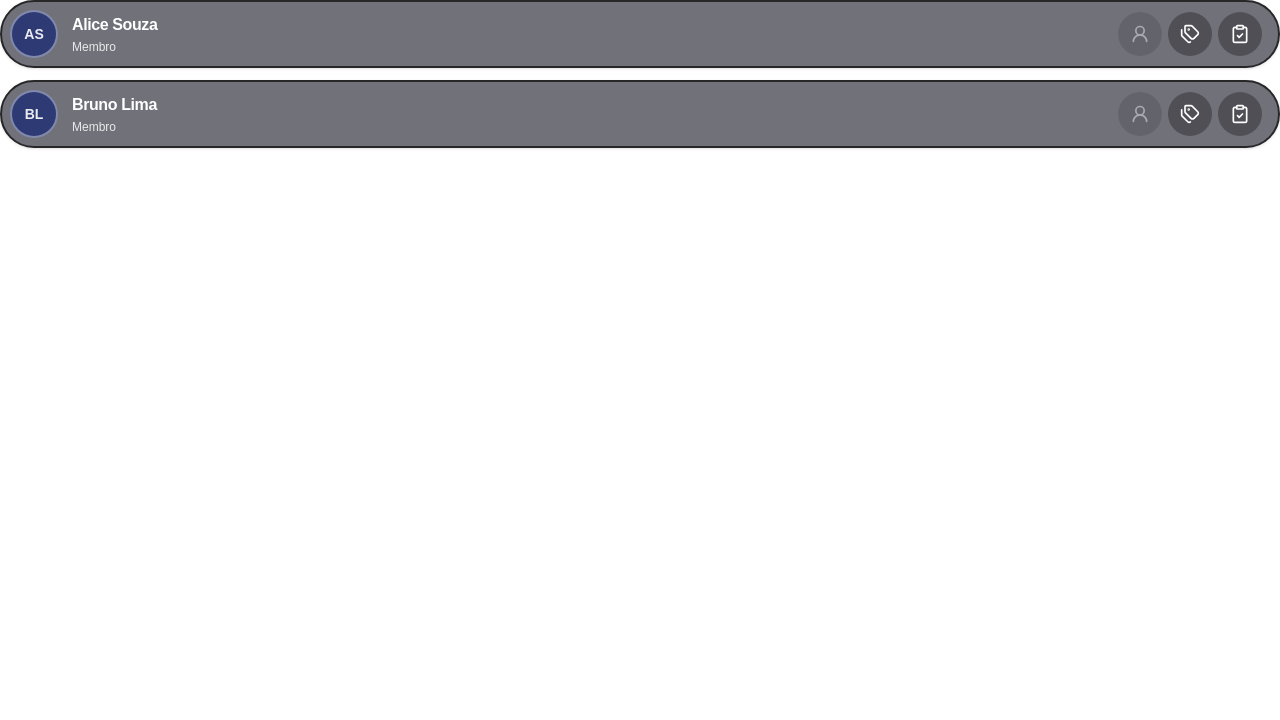
Test: [US09] Integração do AttendancePanel › Deve marcar o status na hora e deixar outro aluno ser alterado enquanto o servidor ainda não respondeu
Click the button named "Presença de Alice Souza: não registrada": [1240, 34] box [1218,12,1262,56]
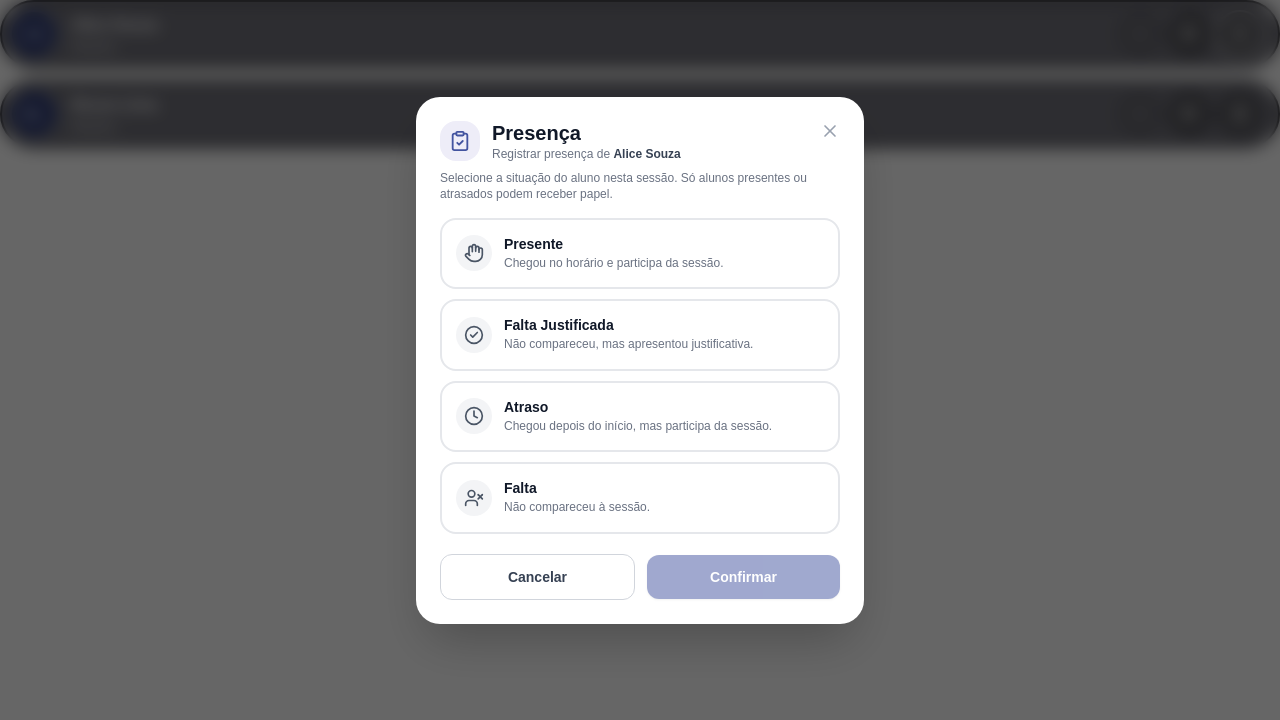
Click the button "Falta Não compareceu à sessão.": [640, 498] box [440,462,840,534]
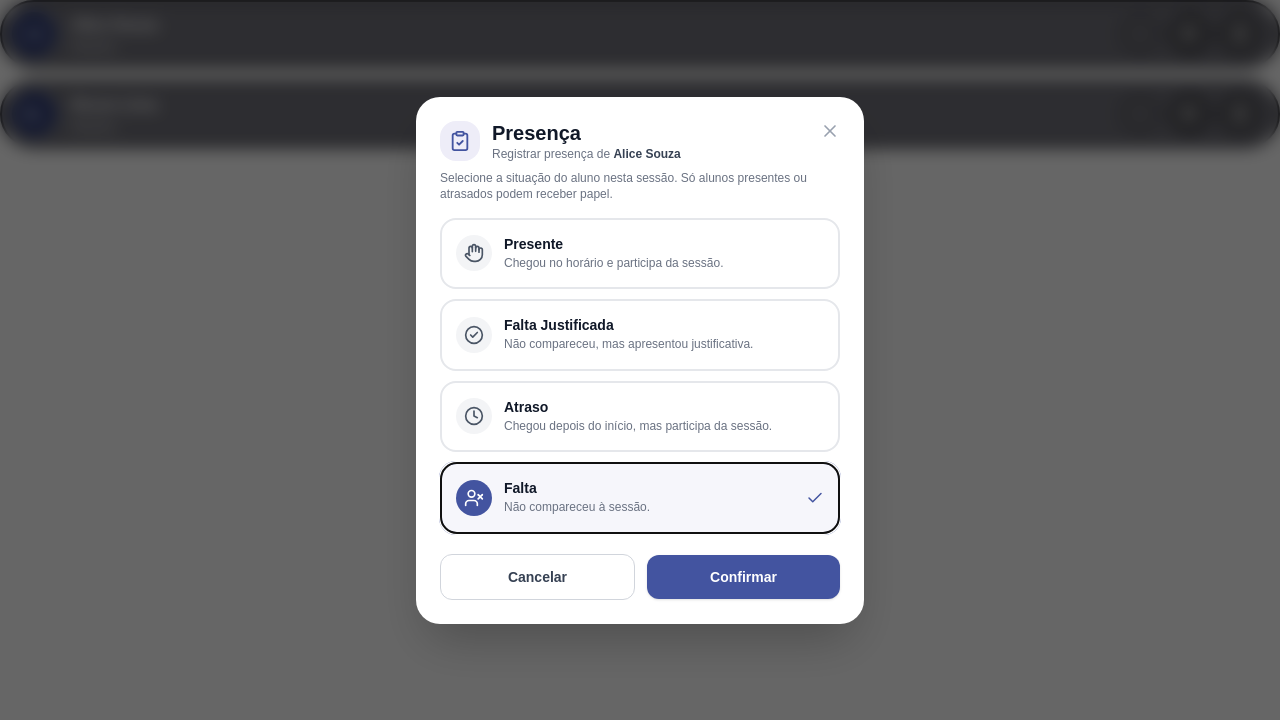
Click the button "Confirmar": [744, 576] box [647,554,840,598]
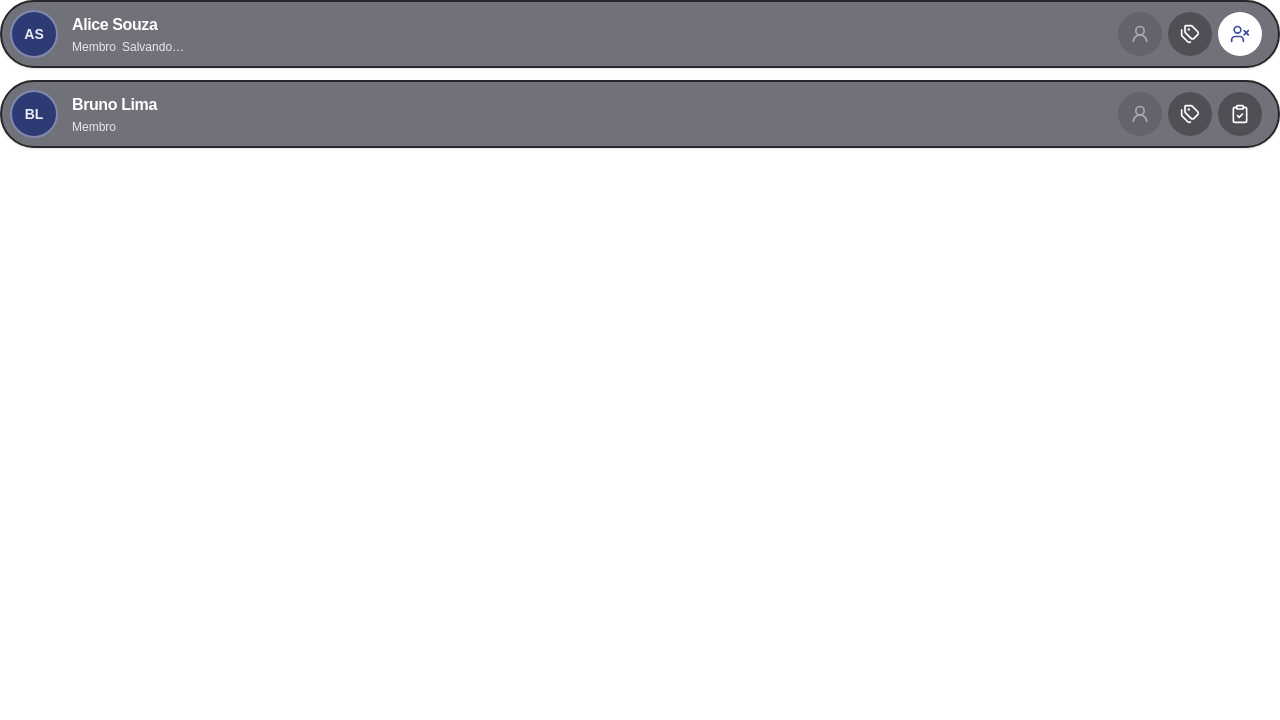
Expected: the button named "Tags de Alice Souza" is enabled, [1168,12,1212,56]
Expected: the list item "AS Alice Souza Membro Salvando…" has attribute aria-busy="true", [0,0,1279,68]
Click the button named "Presença de Bruno Lima: não registrada": [1240, 114] box [1218,92,1262,136]
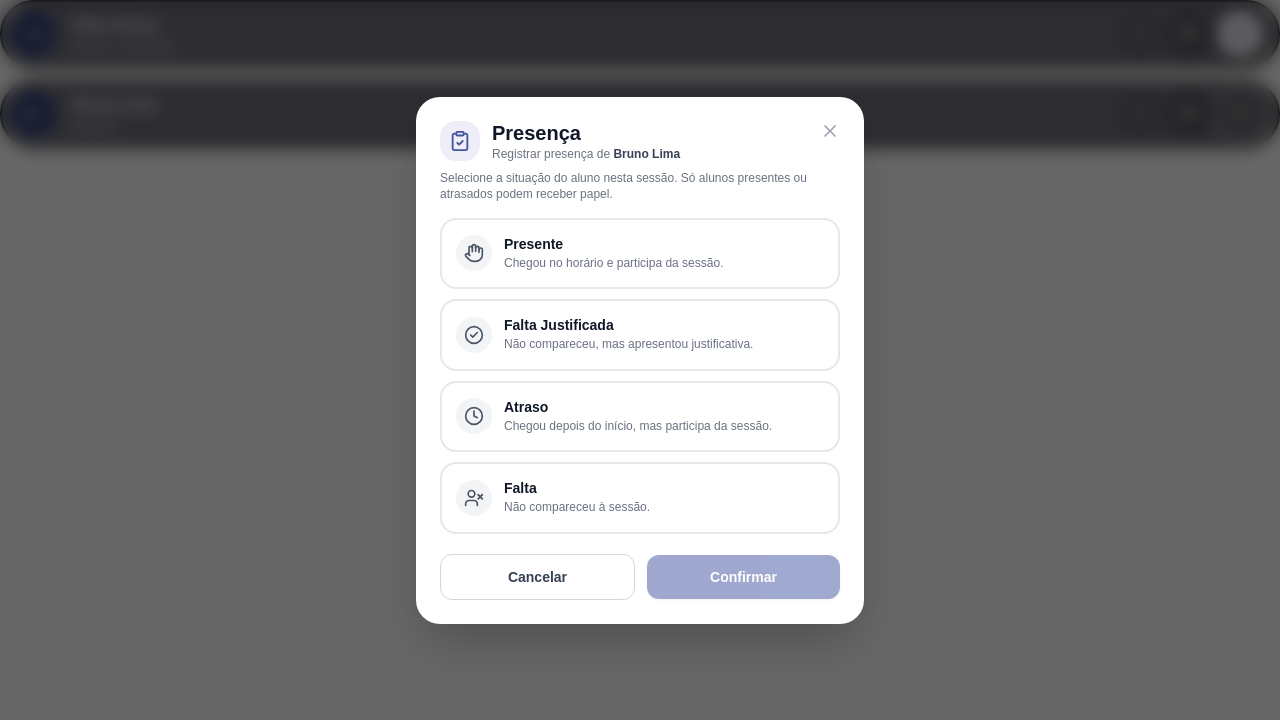
Click the button "Presente": [640, 253] box [440,218,840,289]
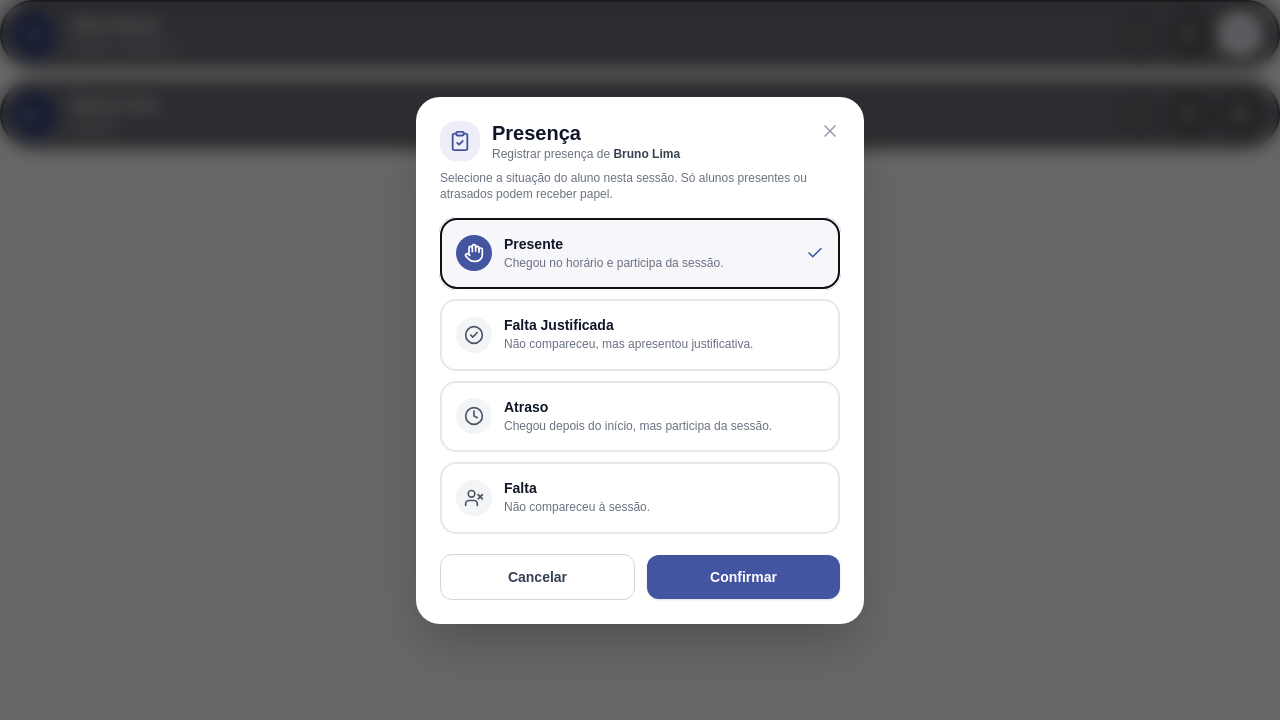
Click the button "Confirmar": [744, 576] box [647,554,840,598]
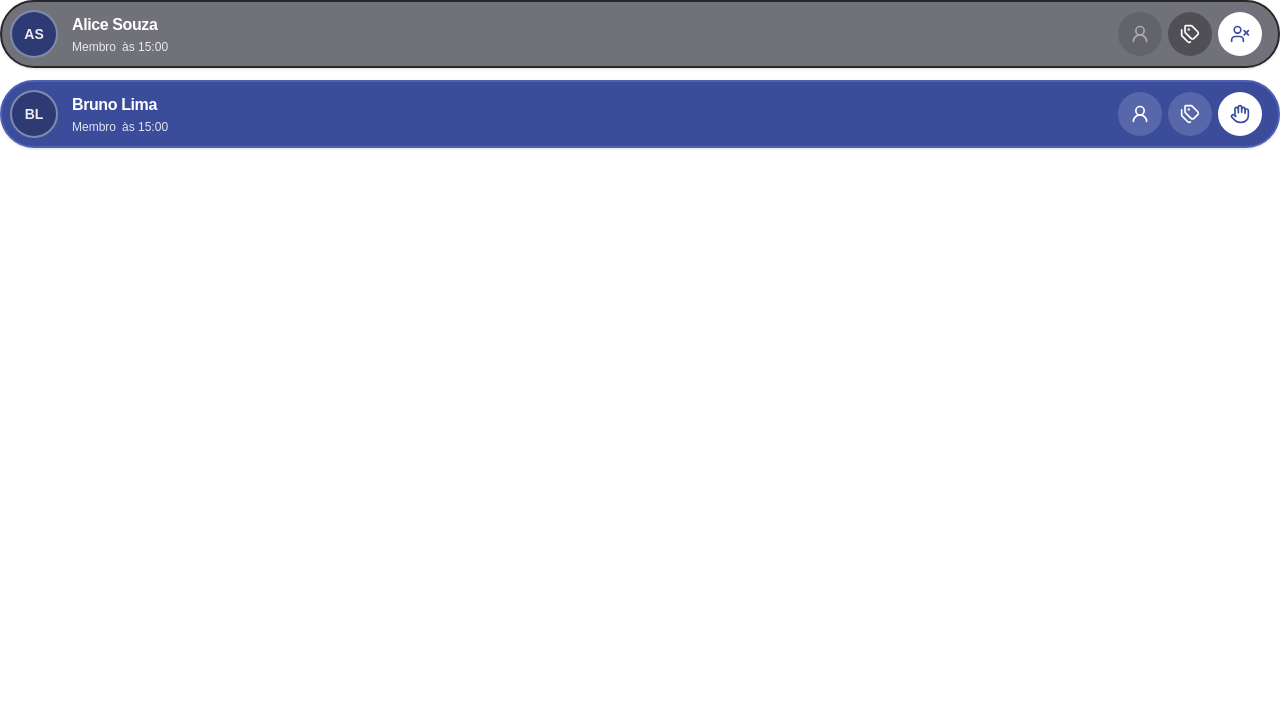
Expected: the text "às 15:00" below "Alice Souza" is shown, [122,40,168,54]
Expected: the text "às 15:00" below "Bruno Lima" is shown, [122,120,168,134]
